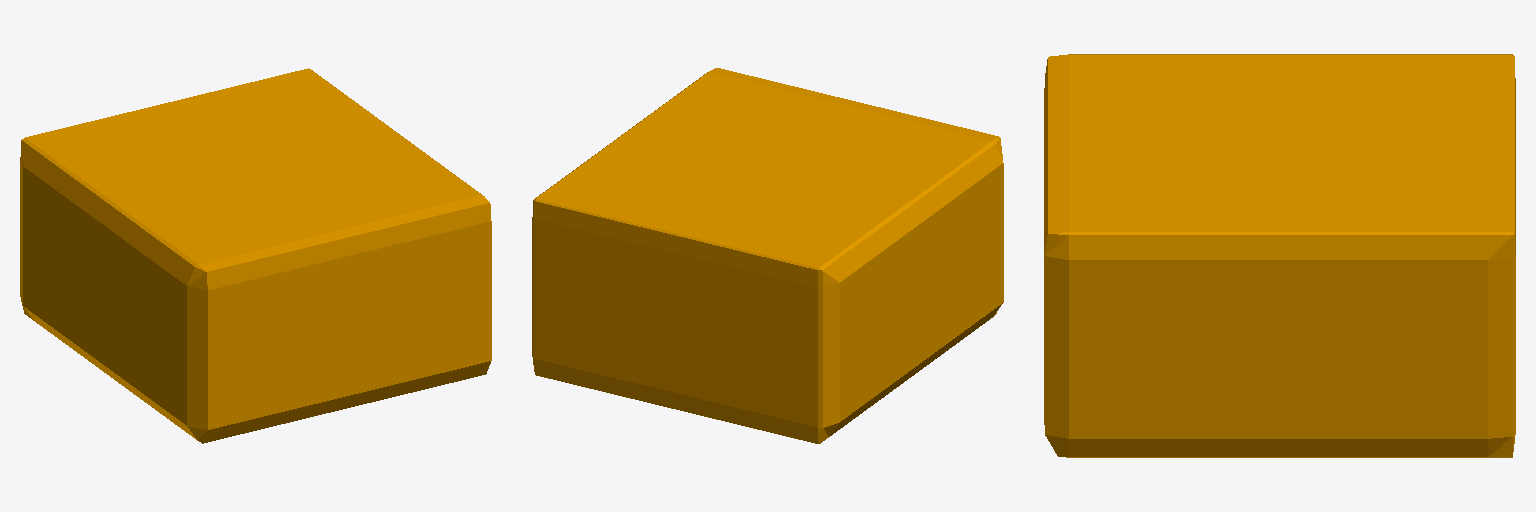
URDF robot description (cylinder_box_36):
<?xml version="1.0" encoding="utf-8"?>  <robot name="cylinder_box_36">   <link name="cylinder_box_36">     <visual>       <geometry>         <mesh filename="../meshes/box/box_36.stl" scale="1 1 1"/>       </geometry>     </visual>     <collision>       <geometry>         <mesh filename="../meshes/box/box_36.stl" scale="1 1 1"/>       </geometry>     </collision>     <inertial>        <origin         xyz="0 0 0"         rpy="0 0 0" />       <mass value="0.43113031260125223"/>       <origin rpy="0 0 0" xyz="0 0 0"/>       <inertia ixx="0.0004153454571005027" ixy="1.063008951653465e-08" ixz="4.991939210869928e-08" iyy="0.0003791400254663899" iyz="3.0351085694876984e-07" izz="0.0006134038871641895"/>     </inertial>   </link>  </robot>

--- What the picture shows (computed from the rendered views, not written in the file) ---
3 views of the same robot in one strip: view 1: azimuth 30°, elevation 25°; view 2: azimuth 150°, elevation 25°; view 3: azimuth 270°, elevation 25° (orthographic).
Robot: cylinder_box_36 — 1 links, 0 joints (none); root link cylinder_box_36; default pose: all joints at 0.
Visible links, largest first — view 1: cylinder_box_36; view 2: cylinder_box_36; view 3: cylinder_box_36.
Link boxes in pixels (<box>): cylinder_box_36: <box>20,68,491,443</box>; cylinder_box_36: <box>532,68,1003,443</box>; cylinder_box_36: <box>1044,54,1515,457</box>.
Bounding box of the posed robot: 0.0903 × 0.0955 × 0.0505 m (x, y, z).
Meshes: 1 distinct files referenced, 1 mesh visuals loaded (1 binary STL).